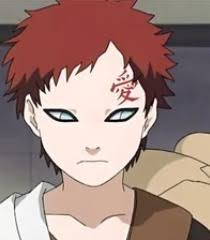gaara: (23, 39, 159, 188)
